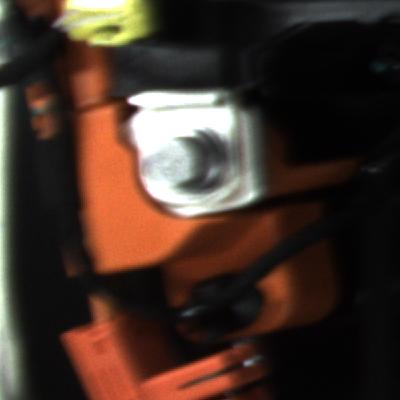nut_b: (155, 123, 241, 204)
